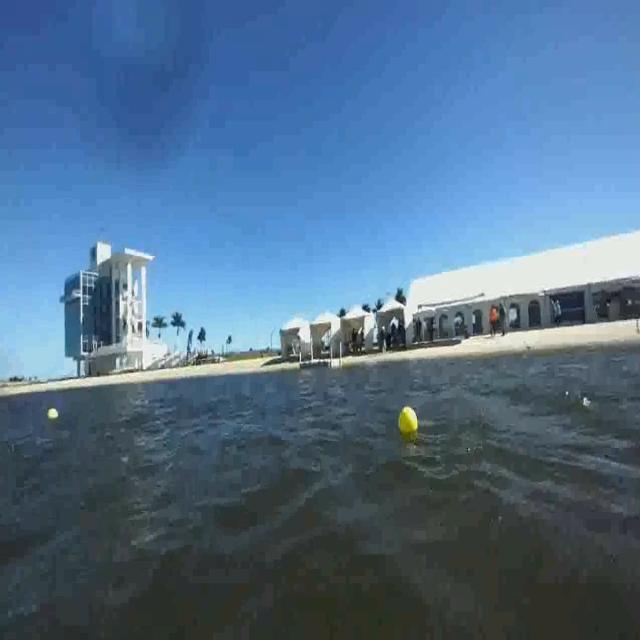yellow-buoy: (400, 406, 420, 436), (46, 405, 58, 424)
